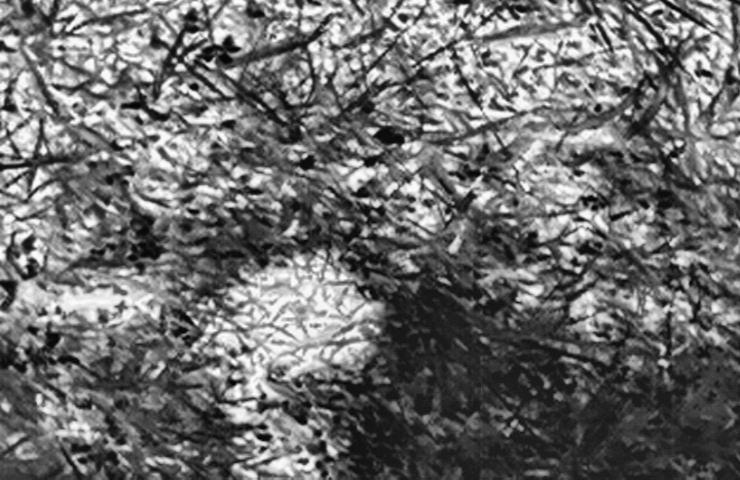landmines: (215, 245, 392, 394)
